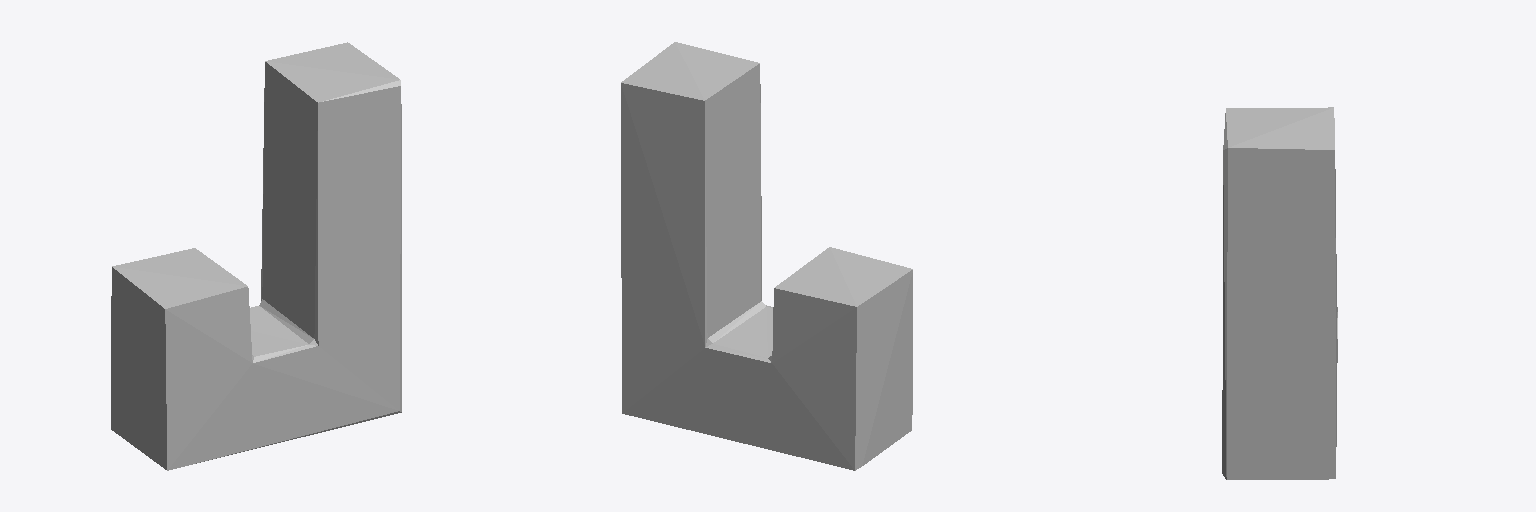
File: J_Block_decimated_convex.obj
The picture shows the model from 3 angles: view 1: azimuth 30°, elevation 25°; view 2: azimuth 150°, elevation 25°; view 3: azimuth 270°, elevation 25°; orthographic projection.
Parts seen in each view (by area): view 1: my_mesh_J_Block; view 2: my_mesh_J_Block; view 3: my_mesh_J_Block.
Part boxes in pixels (left/top/right/bottom): my_mesh_J_Block: left=111, top=42, right=401, bottom=470; my_mesh_J_Block: left=621, top=42, right=912, bottom=470; my_mesh_J_Block: left=1222, top=107, right=1337, bottom=479.
Bounding box in the file's own units: 37.78 × 50.13 × 15.78.